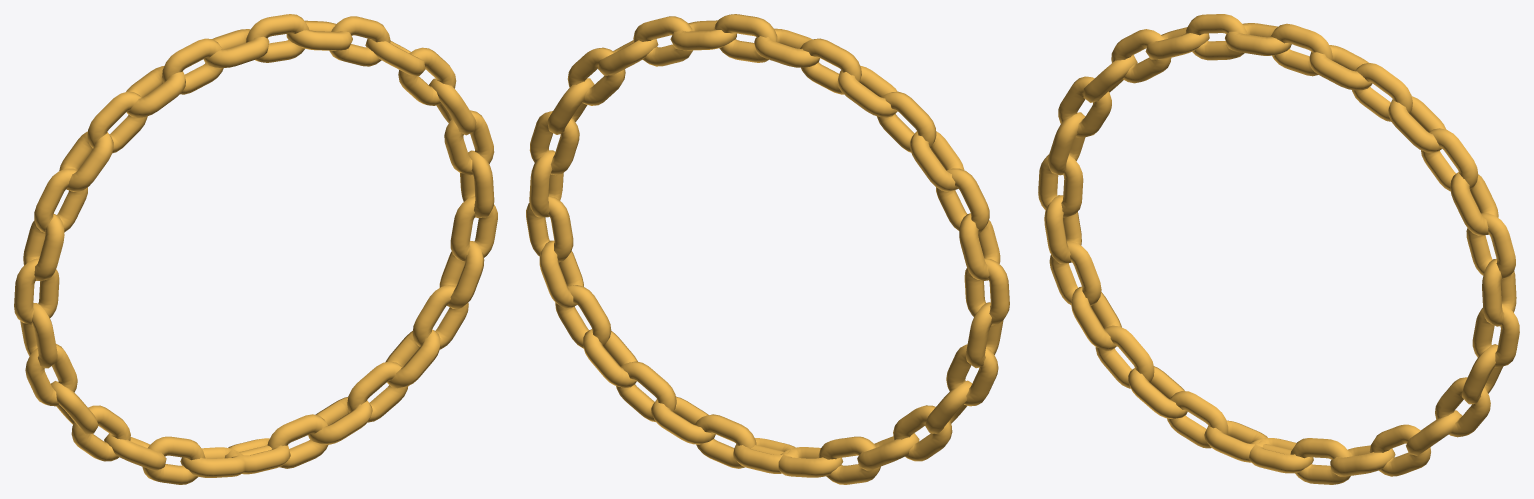
Rendered from gold-bracelet.glb.
The picture shows the model from 3 angles, left to right: view 1: azimuth 30°, elevation 25°; view 2: azimuth 150°, elevation 25°; view 3: azimuth 330°, elevation 25°; orthographic projection.
Visible parts, largest first — view 1: metal; view 2: metal; view 3: metal.
Part boxes in pixels (x1=…): metal: x1=14, y1=14, x2=497, y2=484; metal: x1=526, y1=14, x2=1009, y2=484; metal: x1=1038, y1=14, x2=1519, y2=484.
Size of the model in its own units: 7.32 by 6.6 by 0.6351.
